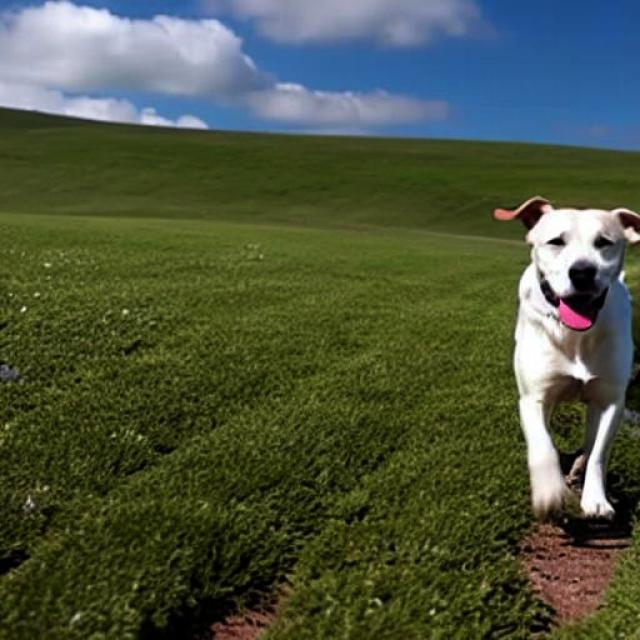Dog: (494, 196, 640, 526)
